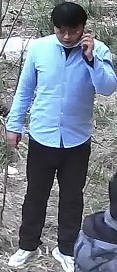phone: (46, 1, 116, 104)
